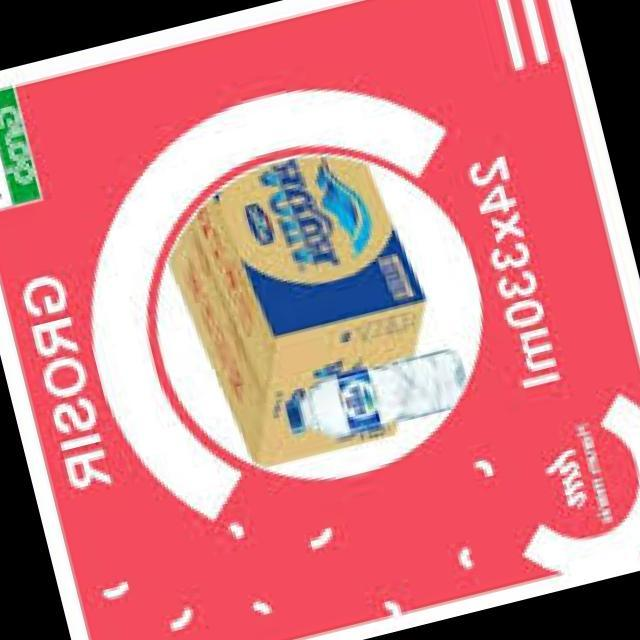good: (276, 338, 486, 473)
